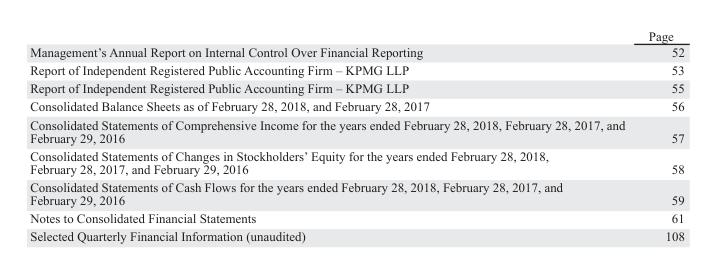table: (29, 28, 683, 243)
table column: (29, 28, 636, 243), (636, 28, 683, 243)
table column header: (29, 28, 683, 43)
table row: (29, 115, 683, 146), (29, 146, 683, 177), (29, 177, 683, 208), (29, 96, 683, 115), (29, 60, 683, 78), (29, 78, 683, 96), (29, 208, 683, 226), (29, 43, 683, 60), (29, 226, 683, 243), (29, 28, 683, 43)
